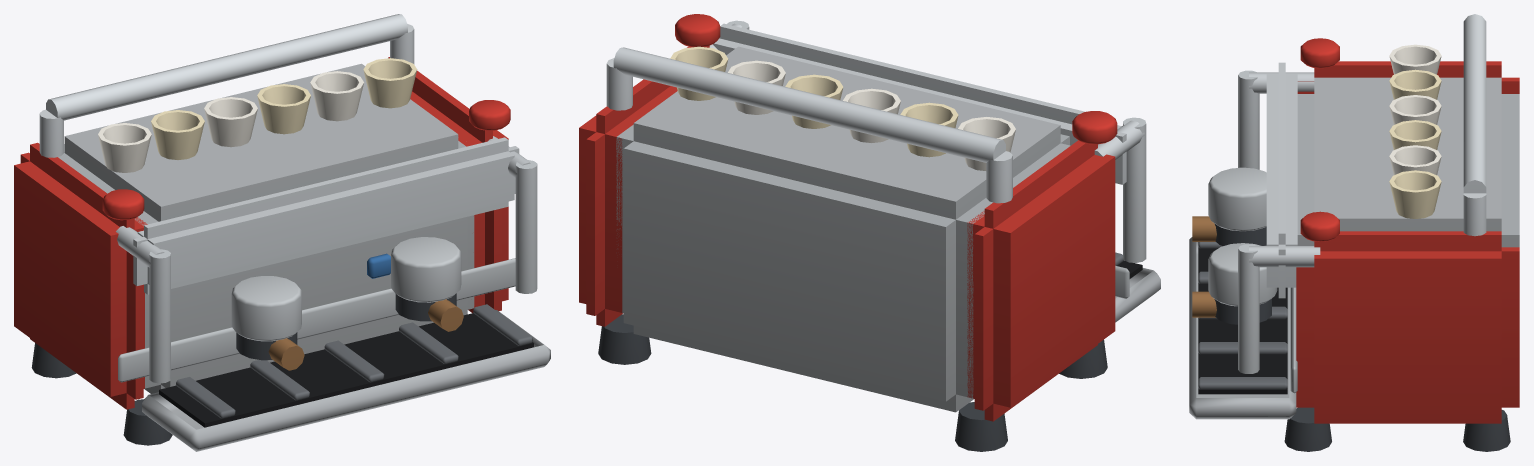
File: SM_Espresso_Machine_01.glb
3 renders of one model, left to right at view 1: azimuth 30°, elevation 25°; view 2: azimuth 150°, elevation 25°; view 3: azimuth 270°, elevation 25°, orthographic. The views are drawn at different scales.
Visible parts, largest first — view 1: SM_Espresso_Machine_01; view 2: SM_Espresso_Machine_01; view 3: SM_Espresso_Machine_01.
Boxes of the visible parts, x1,y1,x2,y2 form: SM_Espresso_Machine_01: (14, 14, 550, 451); SM_Espresso_Machine_01: (579, 14, 1160, 451); SM_Espresso_Machine_01: (1189, 14, 1519, 451).
Size of the model in its own units: 0.76 by 0.495 by 0.555.
Materials: 1 (1 with a texture image).
